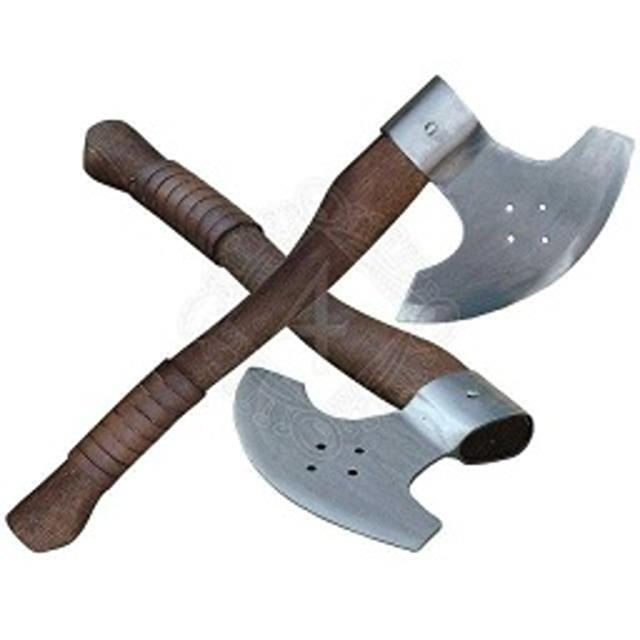ax: (14, 74, 637, 518), (70, 115, 554, 547)
